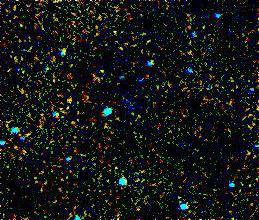star: (54, 88, 84, 118)
